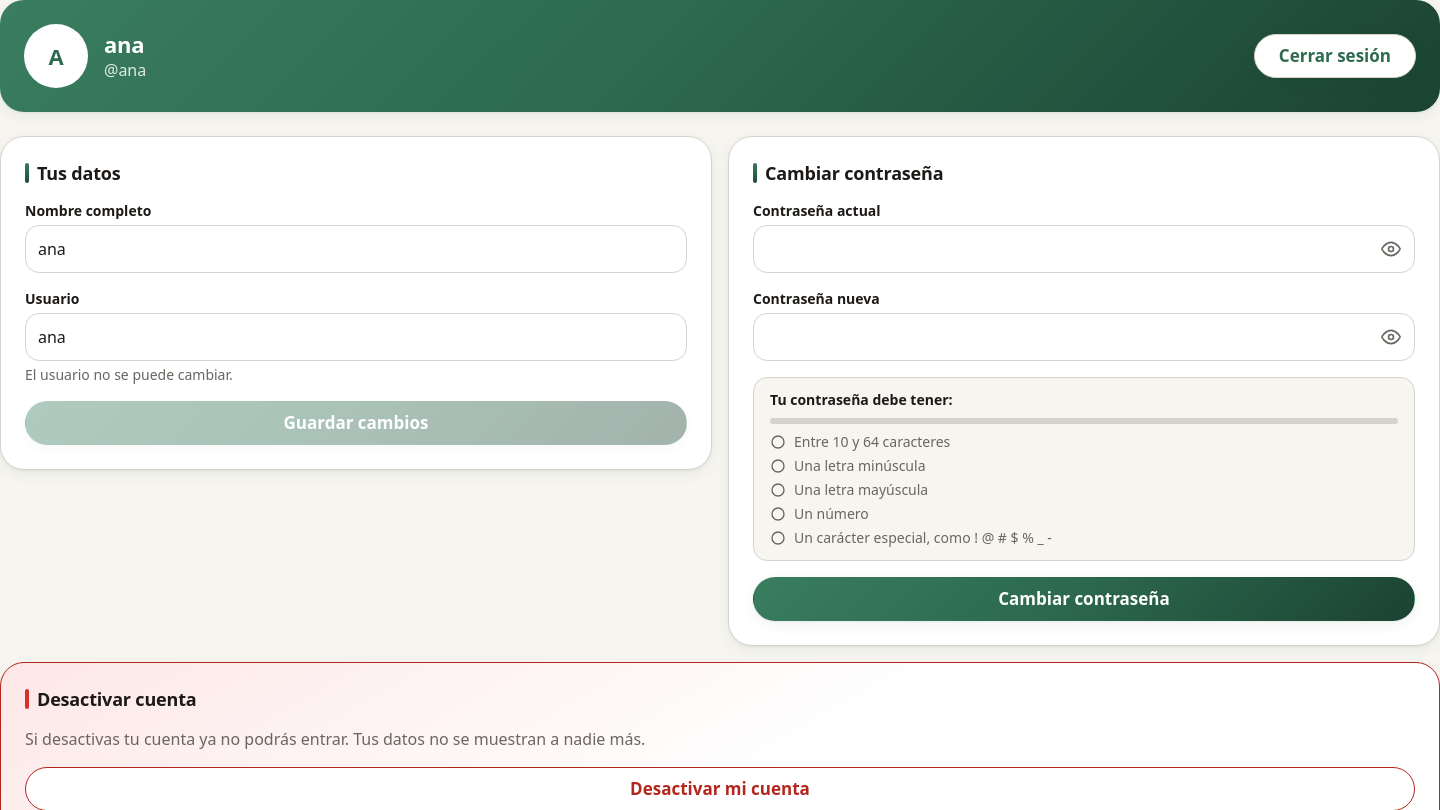
Scenario: Account › asks for the password before deactivating, and cancels with Escape
Click the button "Desactivar mi cuenta": (720, 789) left=25, top=767, right=1415, bottom=809
(page scrolled)
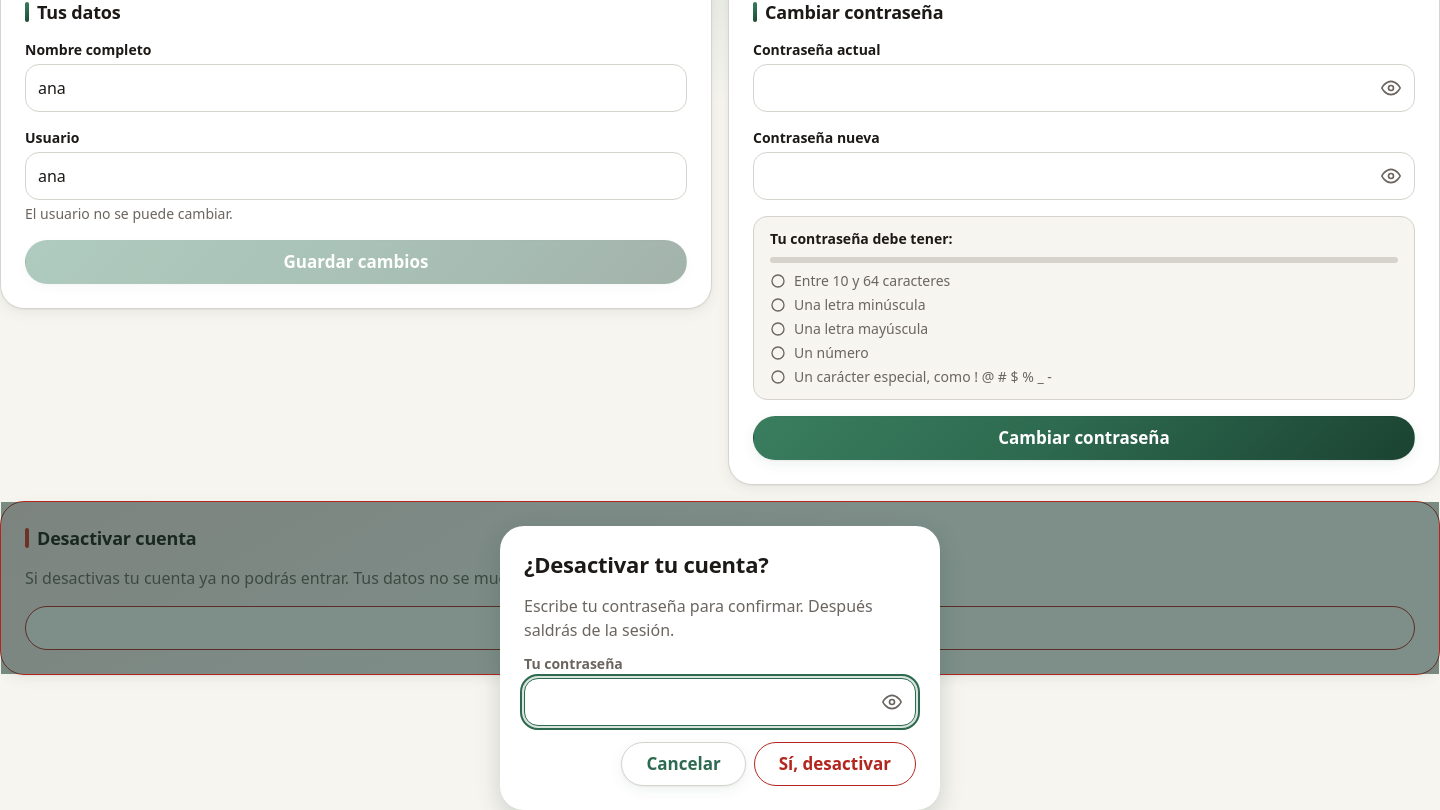
Check: the dialog "¿Desactivar tu cuenta?" is shown, box left=500, top=526, right=940, bottom=809
Press Escape
(page scrolled)
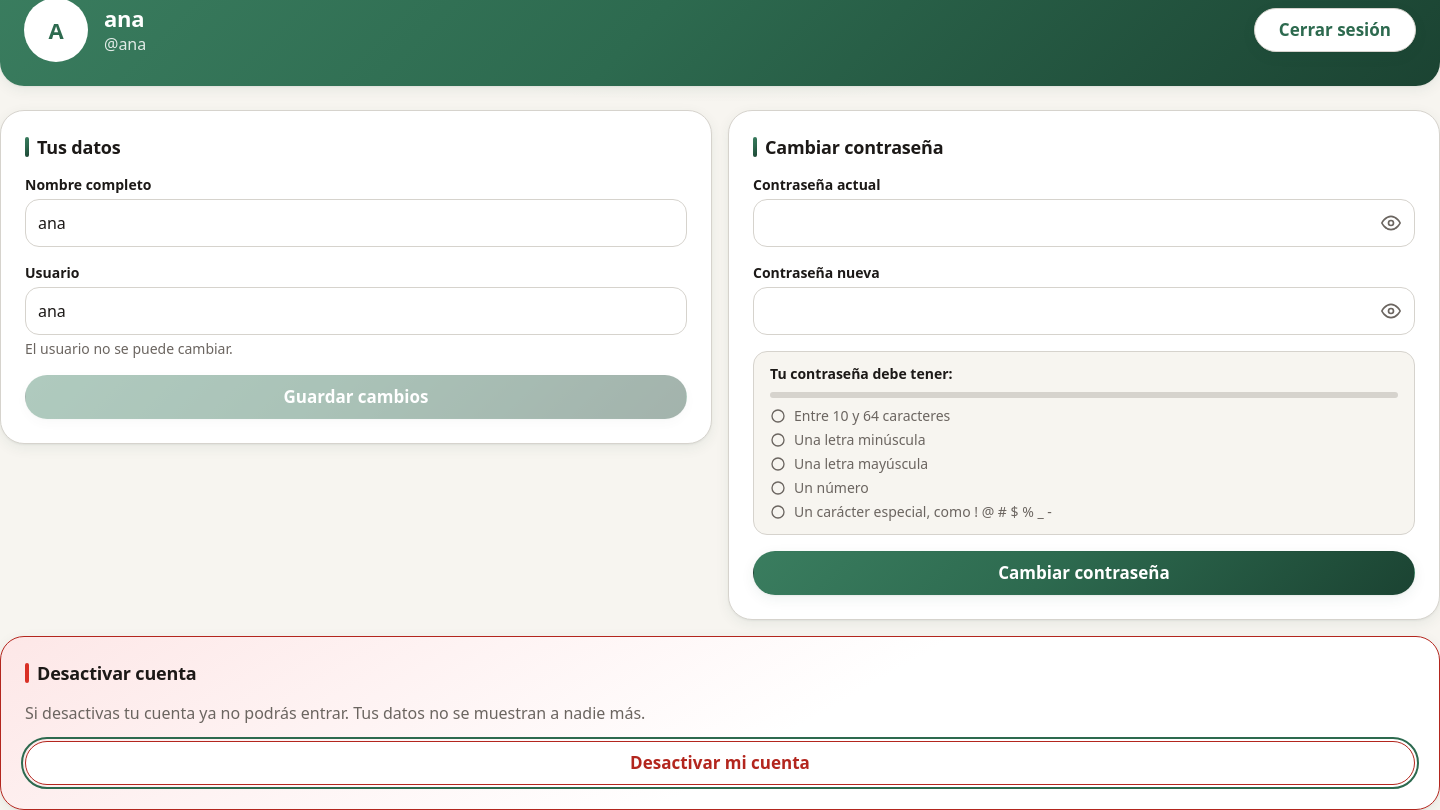
Check: the dialog is gone
